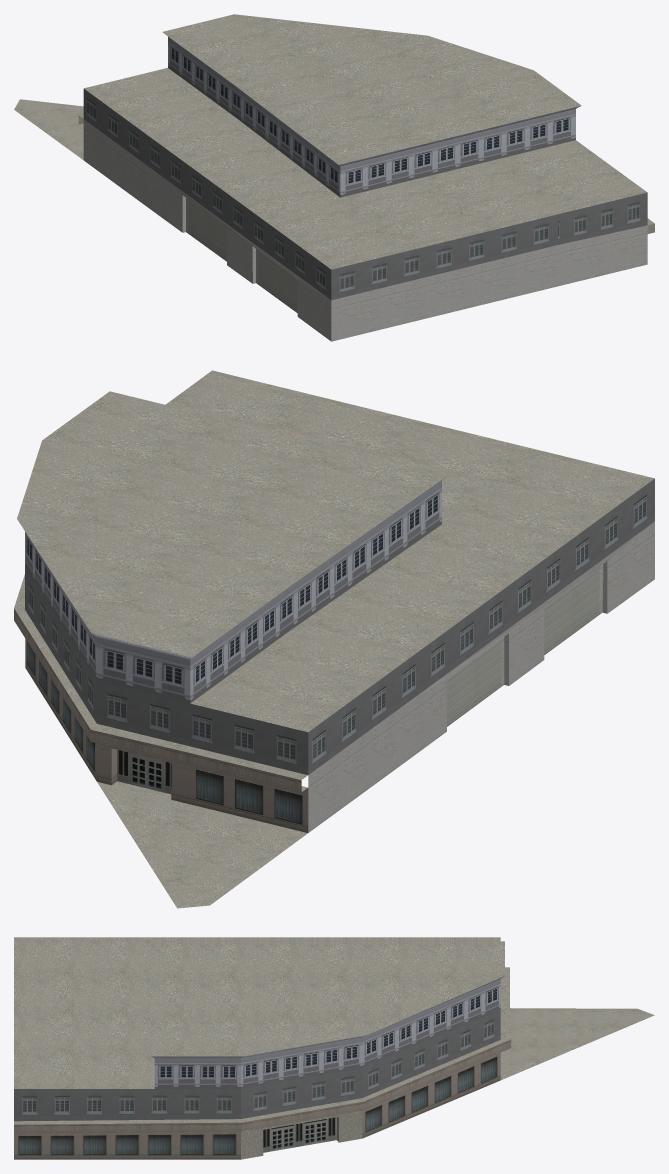
Rendered from wilshire7_law.obj.
The picture shows the model from 3 angles, top to bottom: view 1: azimuth 30°, elevation 25°; view 2: azimuth 150°, elevation 25°; view 3: azimuth 270°, elevation 25°; orthographic projection. The views are drawn at different scales.
Parts seen in each view (by area): view 1: wilshire7_law; view 2: wilshire7_law; view 3: wilshire7_law.
Boxes of the visible parts, box(x1,y1,x2,y2) form: wilshire7_law: box(14, 14, 654, 341); wilshire7_law: box(14, 370, 654, 908); wilshire7_law: box(14, 937, 654, 1159).
Size of the model in its own units: 33.69 by 10.71 by 58.78.
